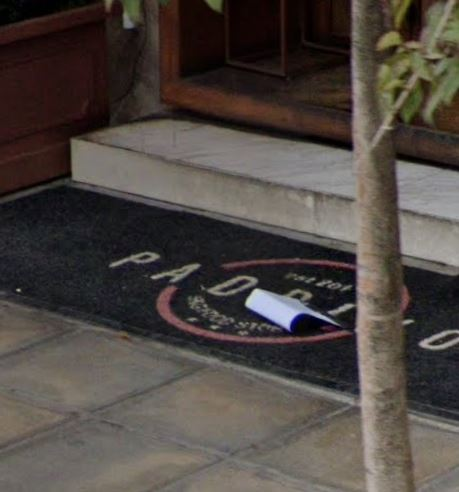trash: (240, 275, 345, 336)
